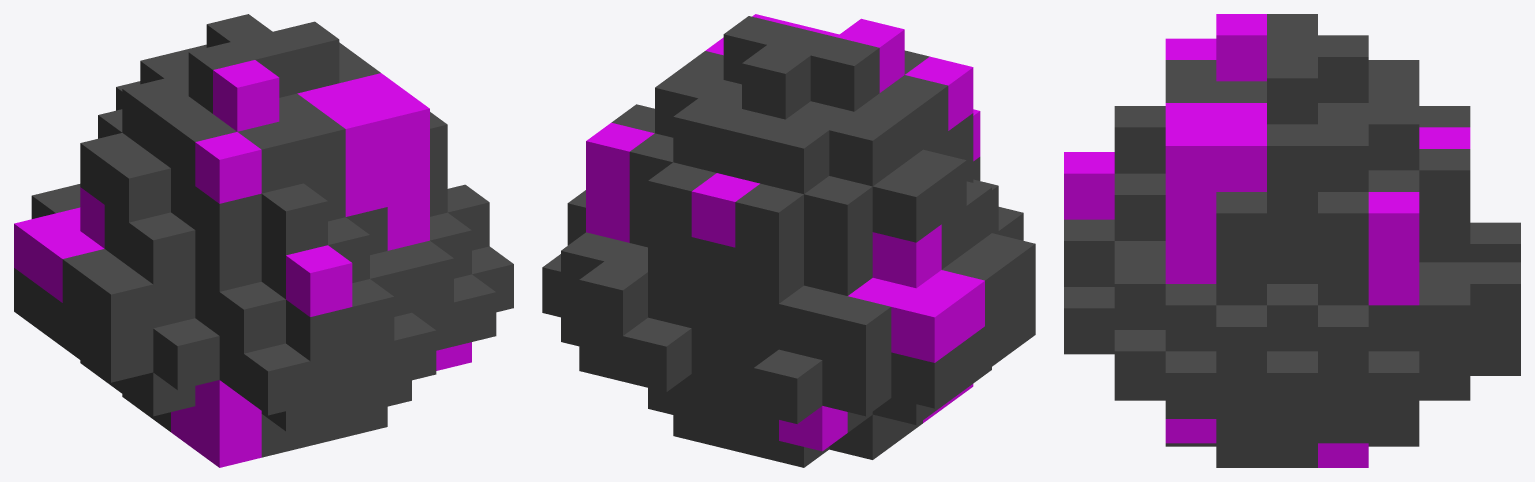
Rendered from lvl2-12.obj.
3 renders of one model, left to right at view 1: azimuth 30°, elevation 25°; view 2: azimuth 150°, elevation 25°; view 3: azimuth 270°, elevation 25°, orthographic. The views are drawn at different scales.
Bounding box in the file's own units: 0.9 × 0.8 × 0.9.
Materials: 1 (1 with a texture image).
